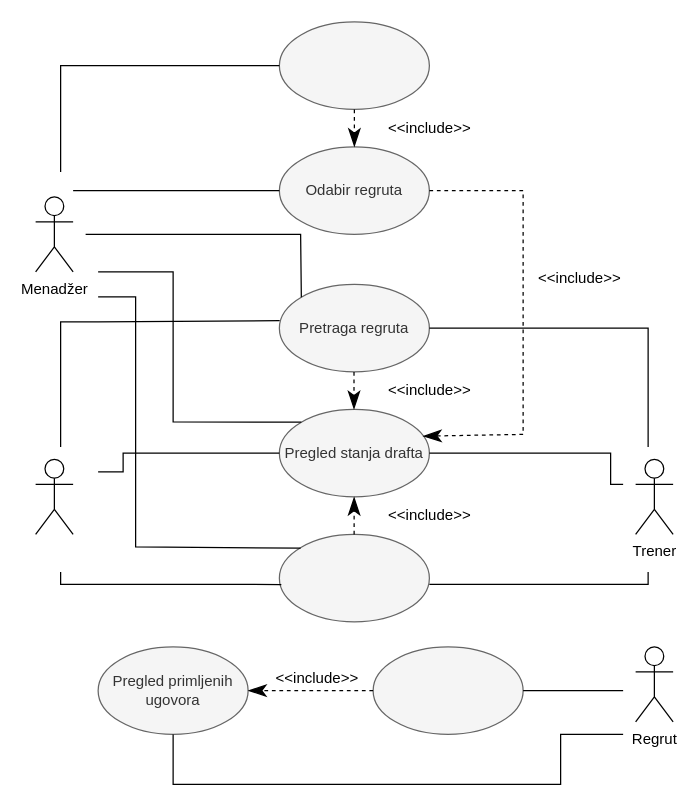
Some shapes in this 699 by 808 pixel diagram are drawn without their labels. The box of each missing label's shape, as (x1, y1, x2, y2) in pixels:
Pregled liste želja: (278, 533, 429, 622)
Rukovanje ugovorom: (372, 646, 523, 734)
Skaut: (34, 458, 73, 534)
Slanje ugovora: (278, 21, 429, 109)
